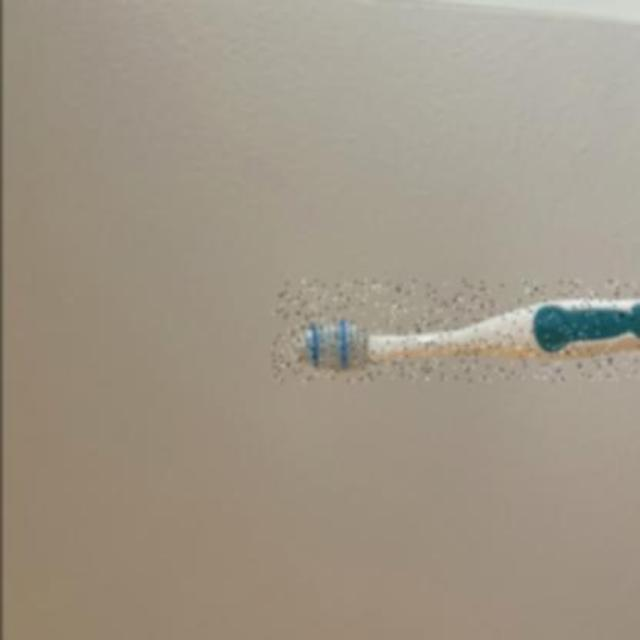toothbrush: (270, 280, 640, 382)
